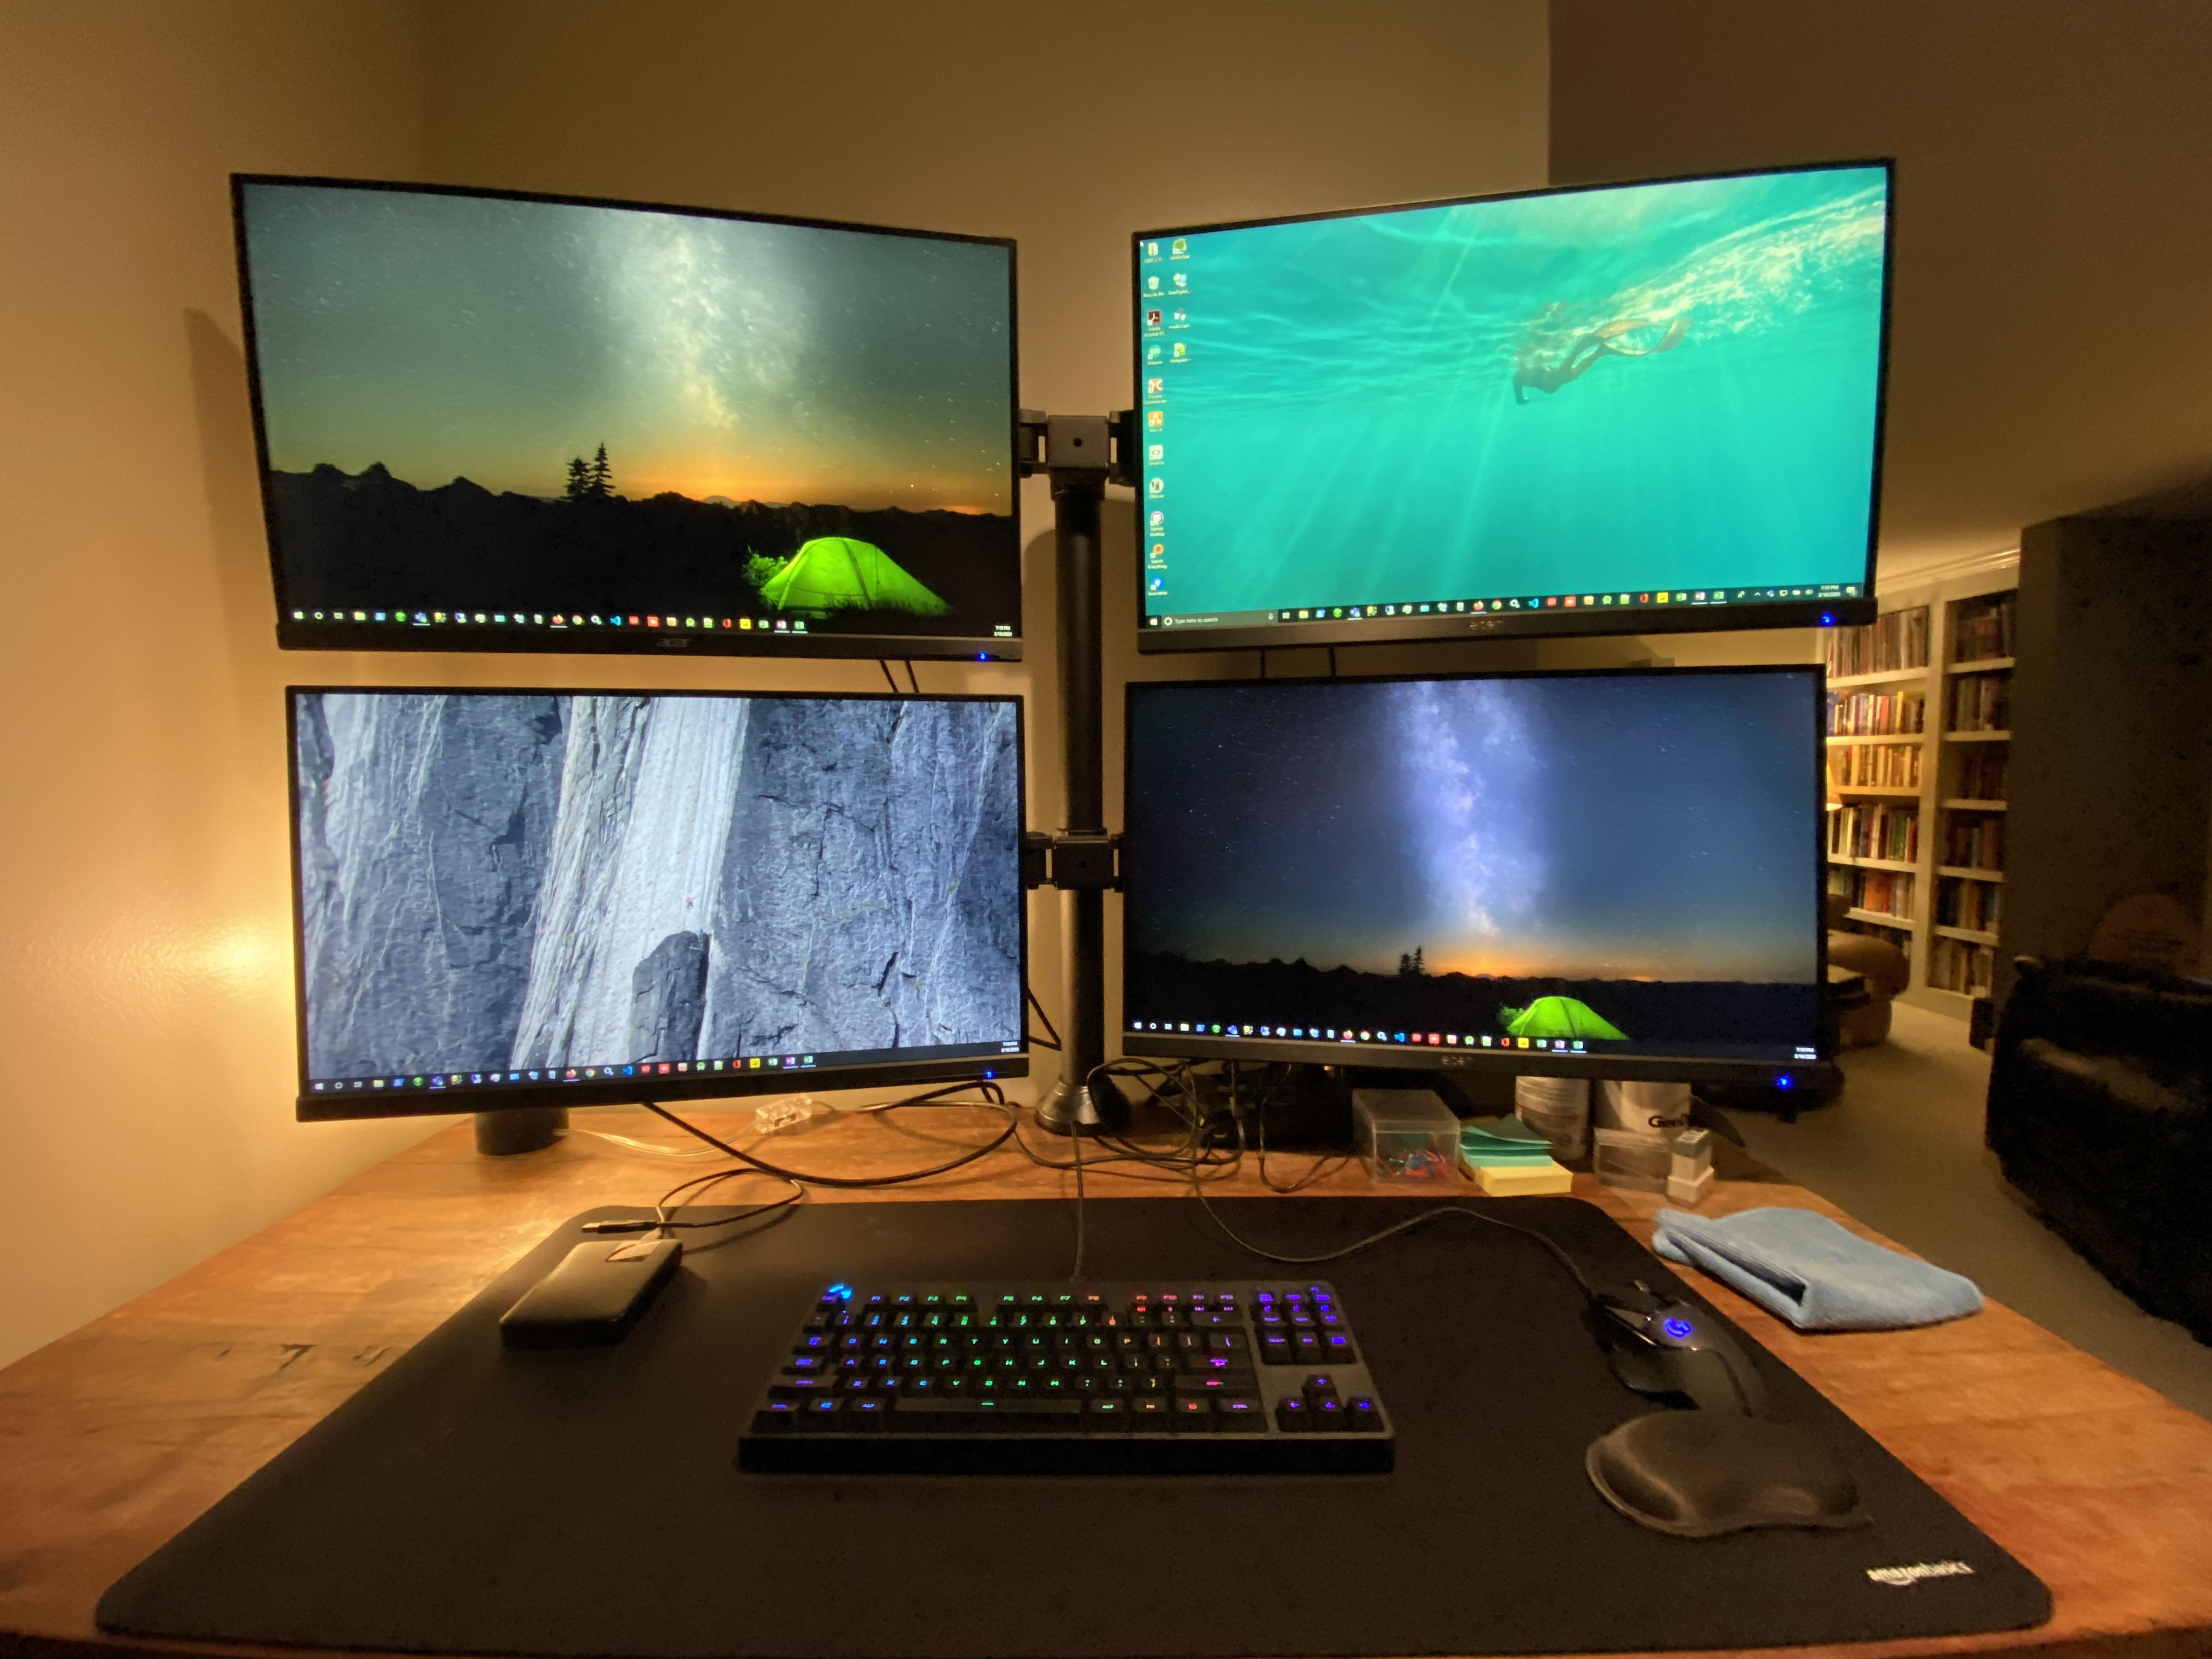Book: (1822, 601, 2019, 993)
Desk (Generic): (2, 1108, 2212, 1657)
Keyboard (Gaming): (735, 1272, 1400, 1497)
Monitor (Landscape): (226, 173, 1028, 669), (1132, 159, 1897, 655), (284, 683, 1029, 1124), (1120, 666, 1838, 1089)
Monitor Arm: (1021, 410, 1125, 1136)
Mouse (Gaming): (1580, 1274, 1768, 1420)
Mousepad (Gaming): (105, 1188, 2057, 1650)
